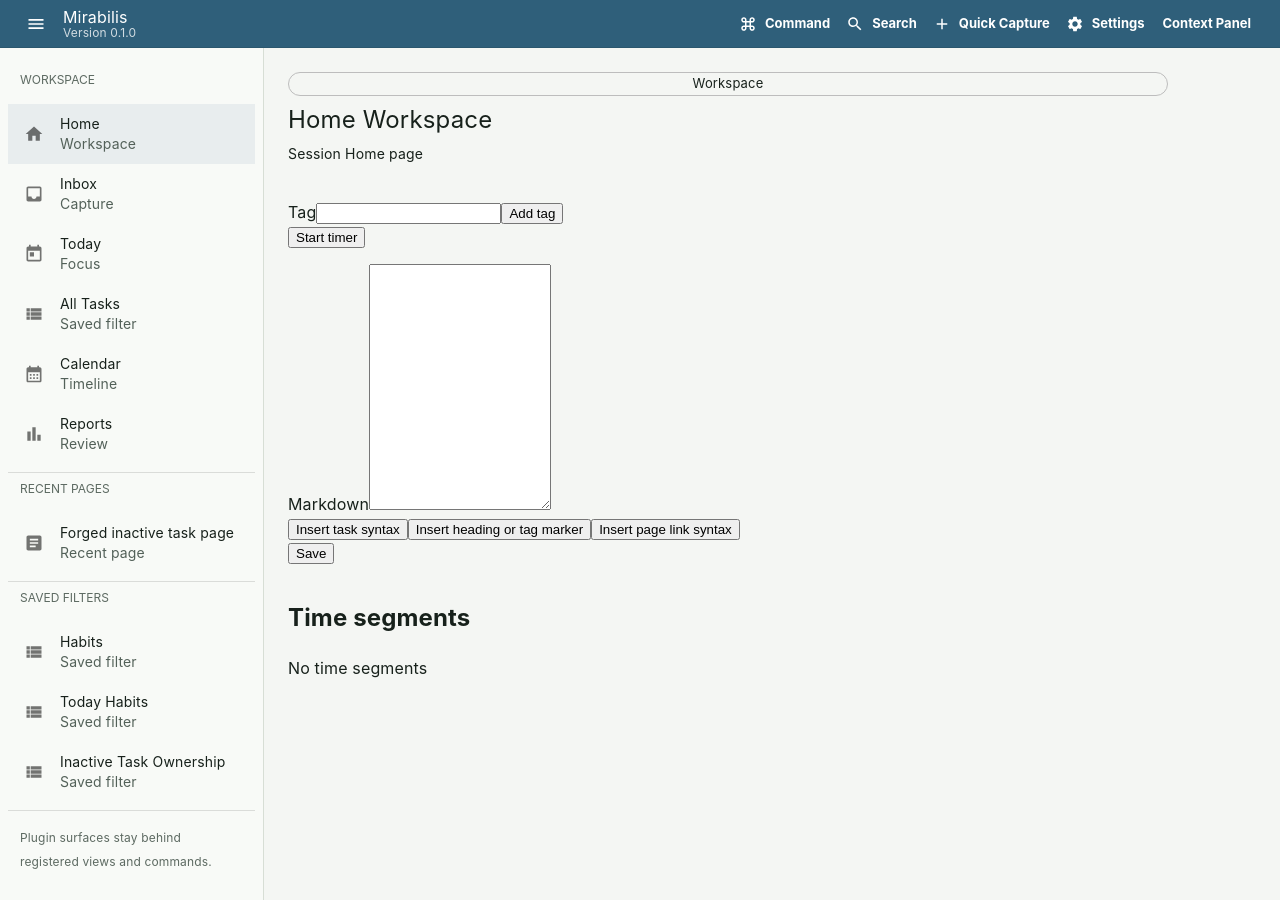
Test: TASK-038 sidebar page and saved-filter navigation › keeps inactive plugin metadata reservations closed for generic filters over reserved fields
What coordinates should you click on to do the following:
click the button "Inactive Task Ownership Saved filter"
I would click on:
 (125, 772)
Its box is x1=24 y1=753 x2=225 y2=790.
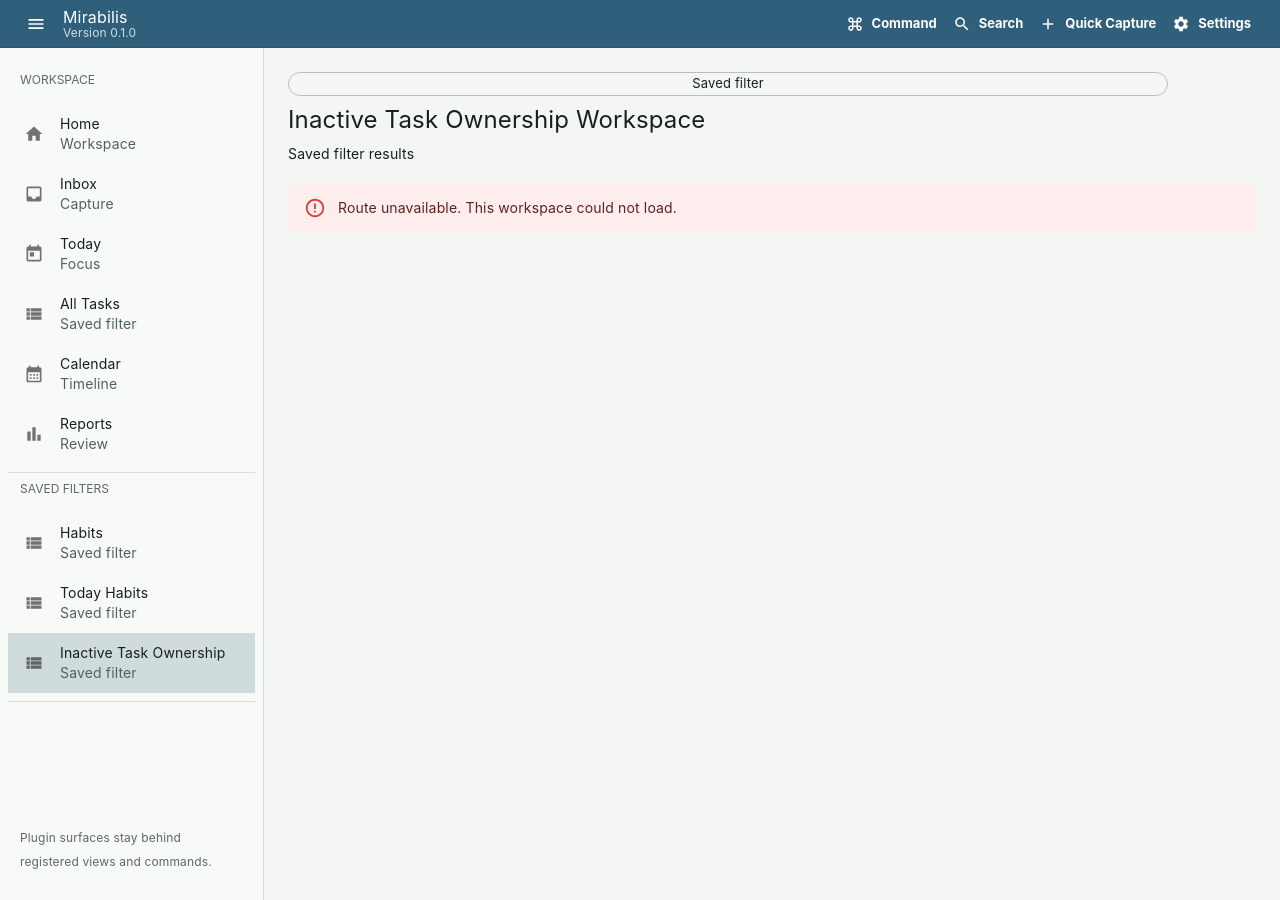
Now the message "Route unavailable. This workspace could not load." is shown, box x1=288 y1=184 x2=1256 y2=232
Now the text "Forged inactive task page" is gone
